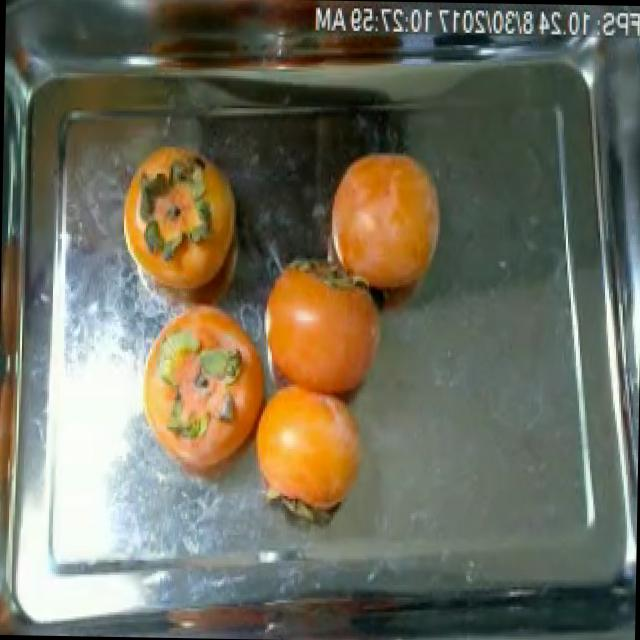Fruit: (260, 244, 399, 430), (236, 373, 379, 534), (320, 139, 453, 305), (123, 130, 215, 268)
